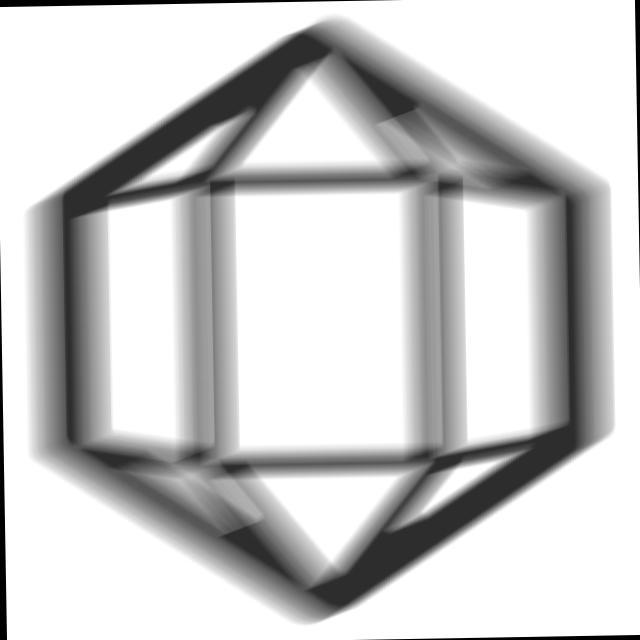crystal: (1, 1, 631, 633)
